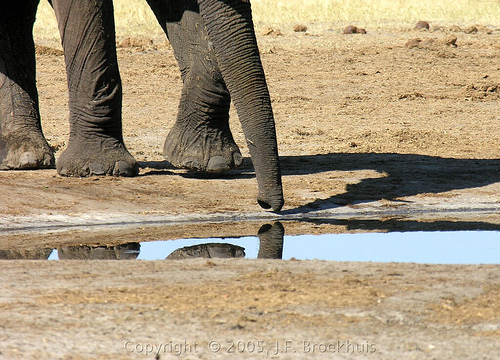elephant: (1, 1, 288, 214)
